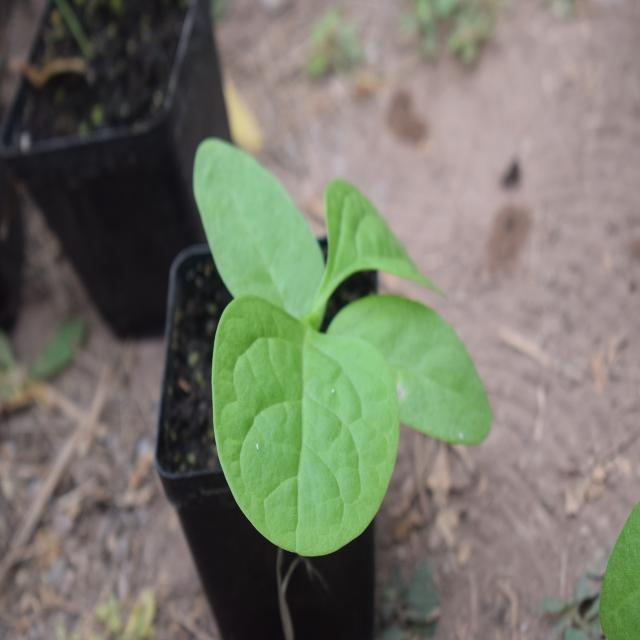Ceylon spinach: (155, 172, 533, 498)
